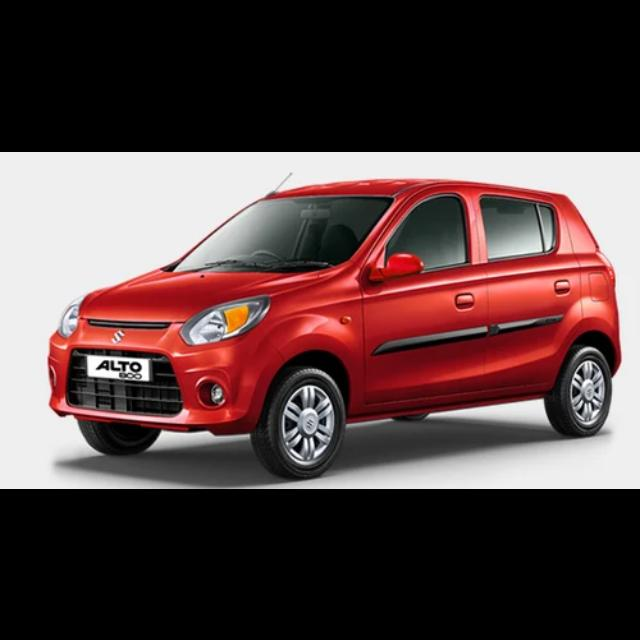vehicles: (38, 178, 618, 482)
